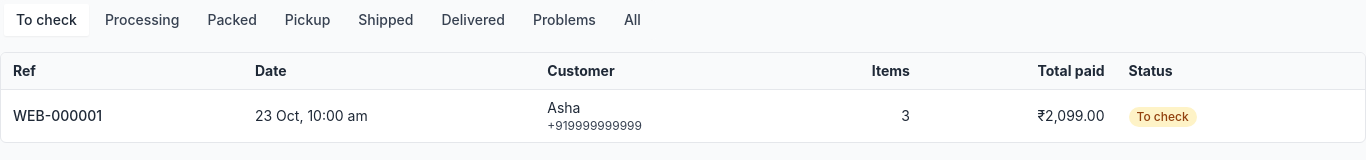
it: Pickup tab shows store pickup orders with their badge and no Outside UP
Check: the row "WEB-000001" does not show "Store pickup", box [1,90,1365,142]
Click the tab "Pickup": click(308, 20) [273,4,342,36]
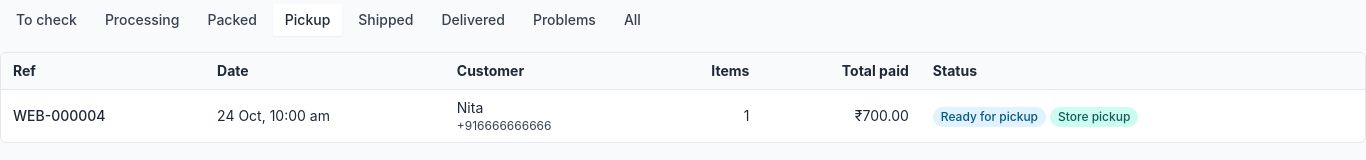
Check: the row "WEB-000004" does not show "Outside UP", box [1,90,1365,142]
Check: the row "WEB-000004" shows "Ready for pickup", box [941,108,1038,124]
Check: the row "WEB-000004" shows "Store pickup", box [1058,108,1130,124]
